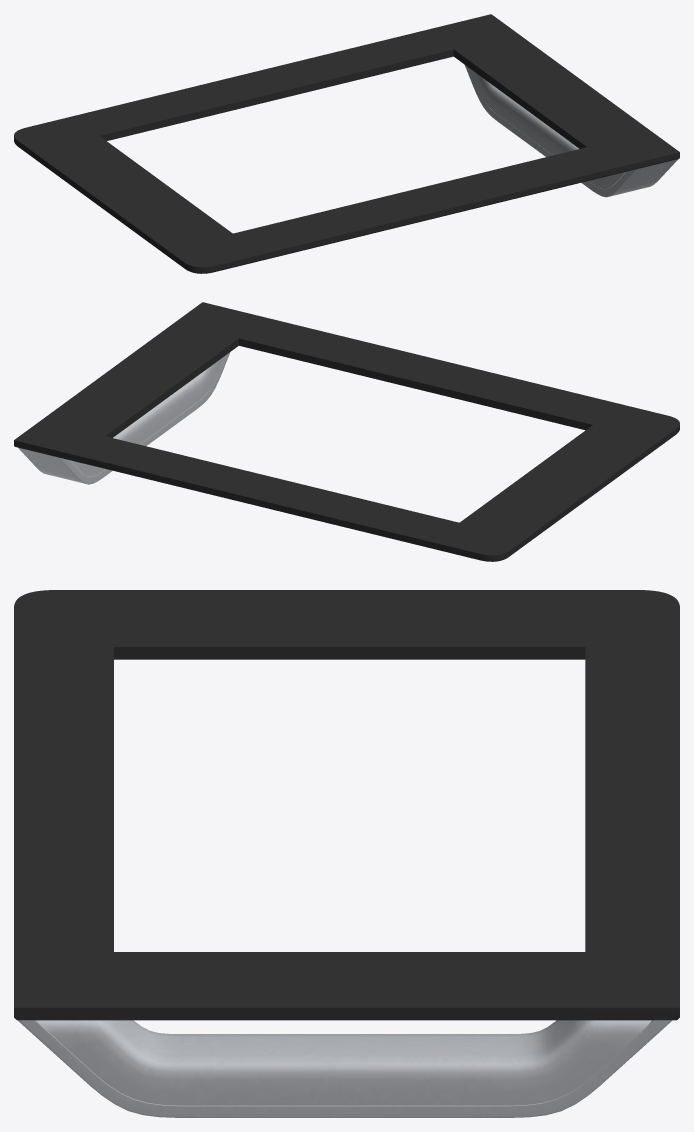
File: door.obj
3 views of the same model, one above another, from view 1: azimuth 30°, elevation 25°; view 2: azimuth 150°, elevation 25°; view 3: azimuth 270°, elevation 25° (orthographic). The views are drawn at different scales.
Parts seen in each view (by area): view 1: door; view 2: door; view 3: door.
Part boxes in pixels (x1=…): door: x1=14, y1=14, x2=679, y2=273; door: x1=14, y1=302, x2=679, y2=561; door: x1=14, y1=590, x2=679, y2=1117.
Size of the model in its own units: 0.3716 by 0.046 by 0.2505.
Materials: 1 (1 with a texture image).
